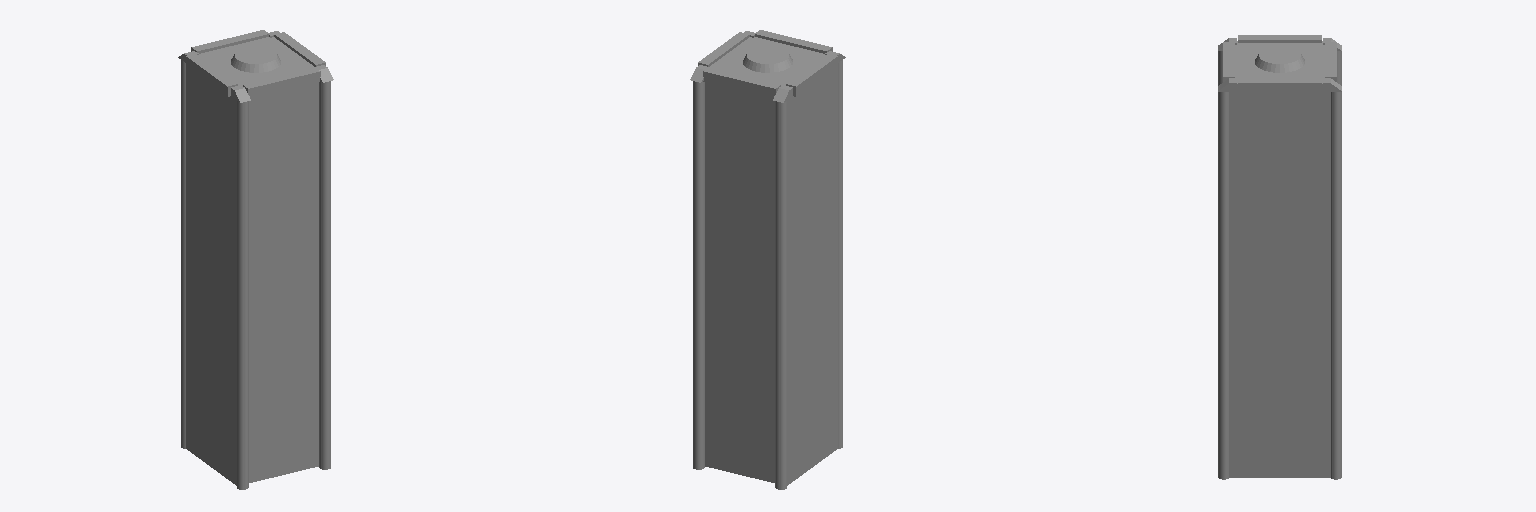
File: skyscraper.obj
3 views of the same model, side by side, from view 1: azimuth 30°, elevation 25°; view 2: azimuth 150°, elevation 25°; view 3: azimuth 270°, elevation 25° (orthographic).
Visible parts, largest first — view 1: Cube.002_Cube.010; view 2: Cube.002_Cube.010; view 3: Cube.002_Cube.010.
Boxes of the visible parts, box(x1,y1,x2,y2) form: Cube.002_Cube.010: box(178, 30, 333, 489); Cube.002_Cube.010: box(690, 30, 845, 489); Cube.002_Cube.010: box(1218, 35, 1341, 479).
Bounding box in the file's own units: 2.22 × 8.64 × 2.43.